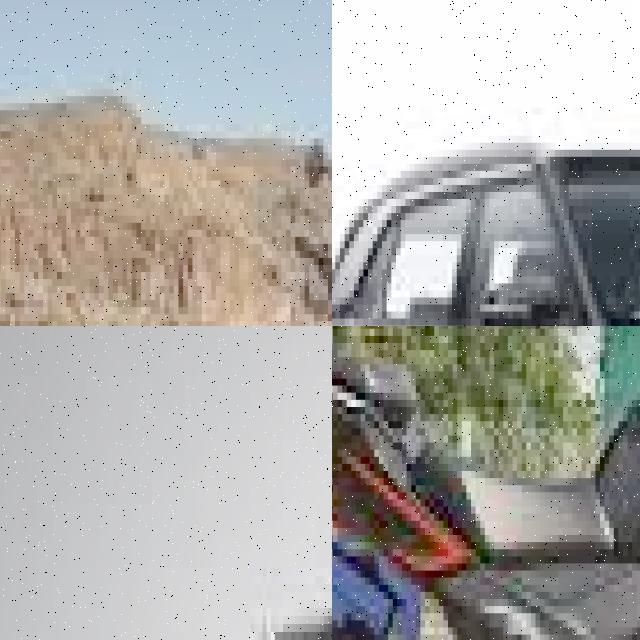bike: (332, 326, 640, 640), (164, 326, 332, 640)
car: (332, 30, 640, 326)
